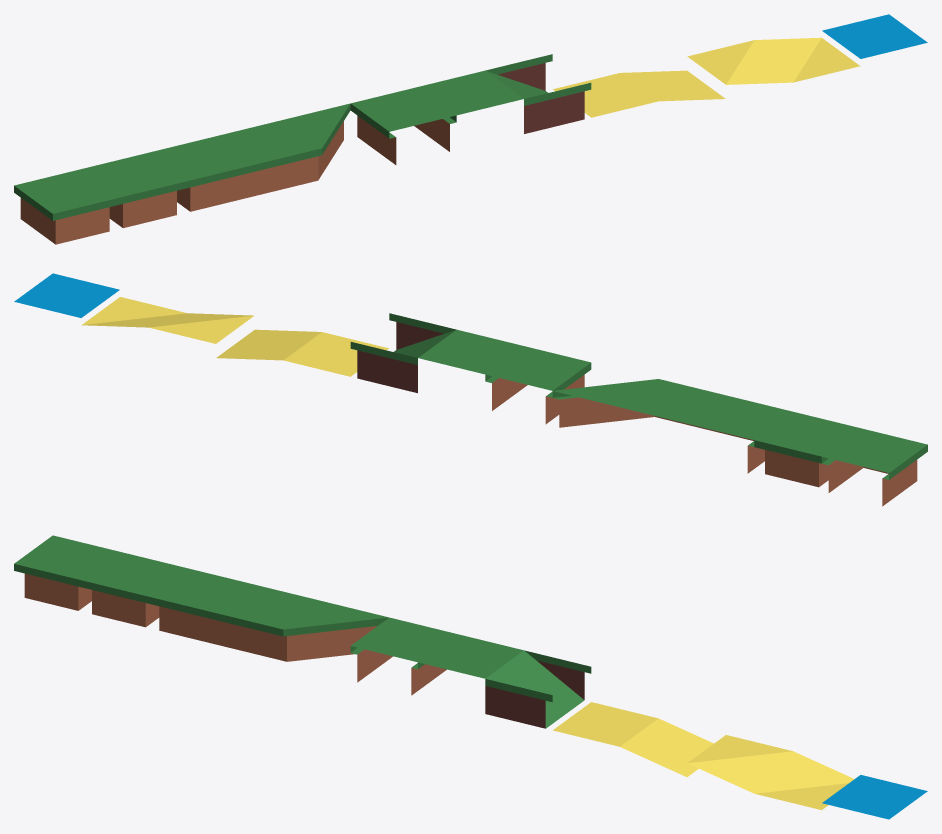
Rendered from Tiles.dae.
3 renders of one model, top to bottom at view 1: azimuth 30°, elevation 25°; view 2: azimuth 150°, elevation 25°; view 3: azimuth 330°, elevation 25°, orthographic.
Parts seen in each view (by area): view 1: Hill_3_Edges, Hill_Corner, Hill_1_Edge, Hill_4_Edges, Hill_Opposite_Edges, Hill_Ramp, Sand_Diagonal, Sand_Diagonal_2, Water, Hill_Flat, Sand, Sand_Edge (+1 smaller); view 2: Hill_4_Edges, Hill_3_Edges, Hill_Opposite_Edges, Hill_Ramp, Hill_Diagonal, Hill_Corner, Hill_1_Edge, Hill_Flat, Water, Sand, Sand_Edge, Sand_Diagonal_2 (+1 smaller); view 3: Hill_Ramp, Hill_1_Edge, Hill_3_Edges, Hill_4_Edges, Hill_Corner, Hill_Opposite_Edges, Hill_Diagonal, Sand_Diagonal, Sand_Diagonal_2, Sand_Edge, Hill_Flat, Sand (+1 smaller).
Part boxes in pixels (bbox=[...]): Hill_3_Edges: bbox=[14, 169, 120, 244]; Hill_Corner: bbox=[149, 136, 254, 211]; Hill_1_Edge: bbox=[216, 120, 321, 196]; Hill_4_Edges: bbox=[81, 152, 187, 228]; Hill_Opposite_Edges: bbox=[350, 87, 456, 164]; Hill_Ramp: bbox=[485, 54, 591, 133]; Sand_Diagonal: bbox=[687, 40, 792, 84]; Sand_Diagonal_2: bbox=[755, 37, 860, 82]; Water: bbox=[822, 14, 927, 58]; Hill_Flat: bbox=[418, 70, 523, 115]; Sand: bbox=[553, 73, 658, 117]; Sand_Edge: bbox=[620, 70, 725, 101]; Hill_4_Edges: bbox=[754, 412, 860, 487]; Hill_3_Edges: bbox=[821, 428, 927, 506]; Hill_Opposite_Edges: bbox=[485, 346, 591, 424]; Hill_Ramp: bbox=[350, 313, 456, 393]; Hill_Diagonal: bbox=[552, 379, 657, 427]; Hill_Corner: bbox=[687, 395, 792, 473]; Hill_1_Edge: bbox=[620, 379, 725, 433]; Hill_Flat: bbox=[418, 329, 523, 374]; Water: bbox=[14, 273, 119, 317]; Sand: bbox=[283, 332, 388, 376]; Sand_Edge: bbox=[216, 329, 321, 360]; Sand_Diagonal_2: bbox=[81, 297, 186, 327]; Hill_Ramp: bbox=[485, 650, 591, 728]; Hill_1_Edge: bbox=[216, 584, 321, 661]; Hill_3_Edges: bbox=[14, 535, 119, 610]; Hill_4_Edges: bbox=[81, 552, 186, 627]; Hill_Corner: bbox=[148, 568, 254, 645]; Hill_Opposite_Edges: bbox=[350, 617, 455, 695]; Hill_Diagonal: bbox=[283, 601, 388, 661]; Sand_Diagonal: bbox=[687, 735, 792, 793]; Sand_Diagonal_2: bbox=[754, 751, 854, 810]; Sand_Edge: bbox=[620, 718, 713, 776]; Hill_Flat: bbox=[418, 634, 523, 678]; Sand: bbox=[553, 702, 658, 746].
Size of the model in its own units: 26 by 2 by 1.4.
1 material, 1 textured.
